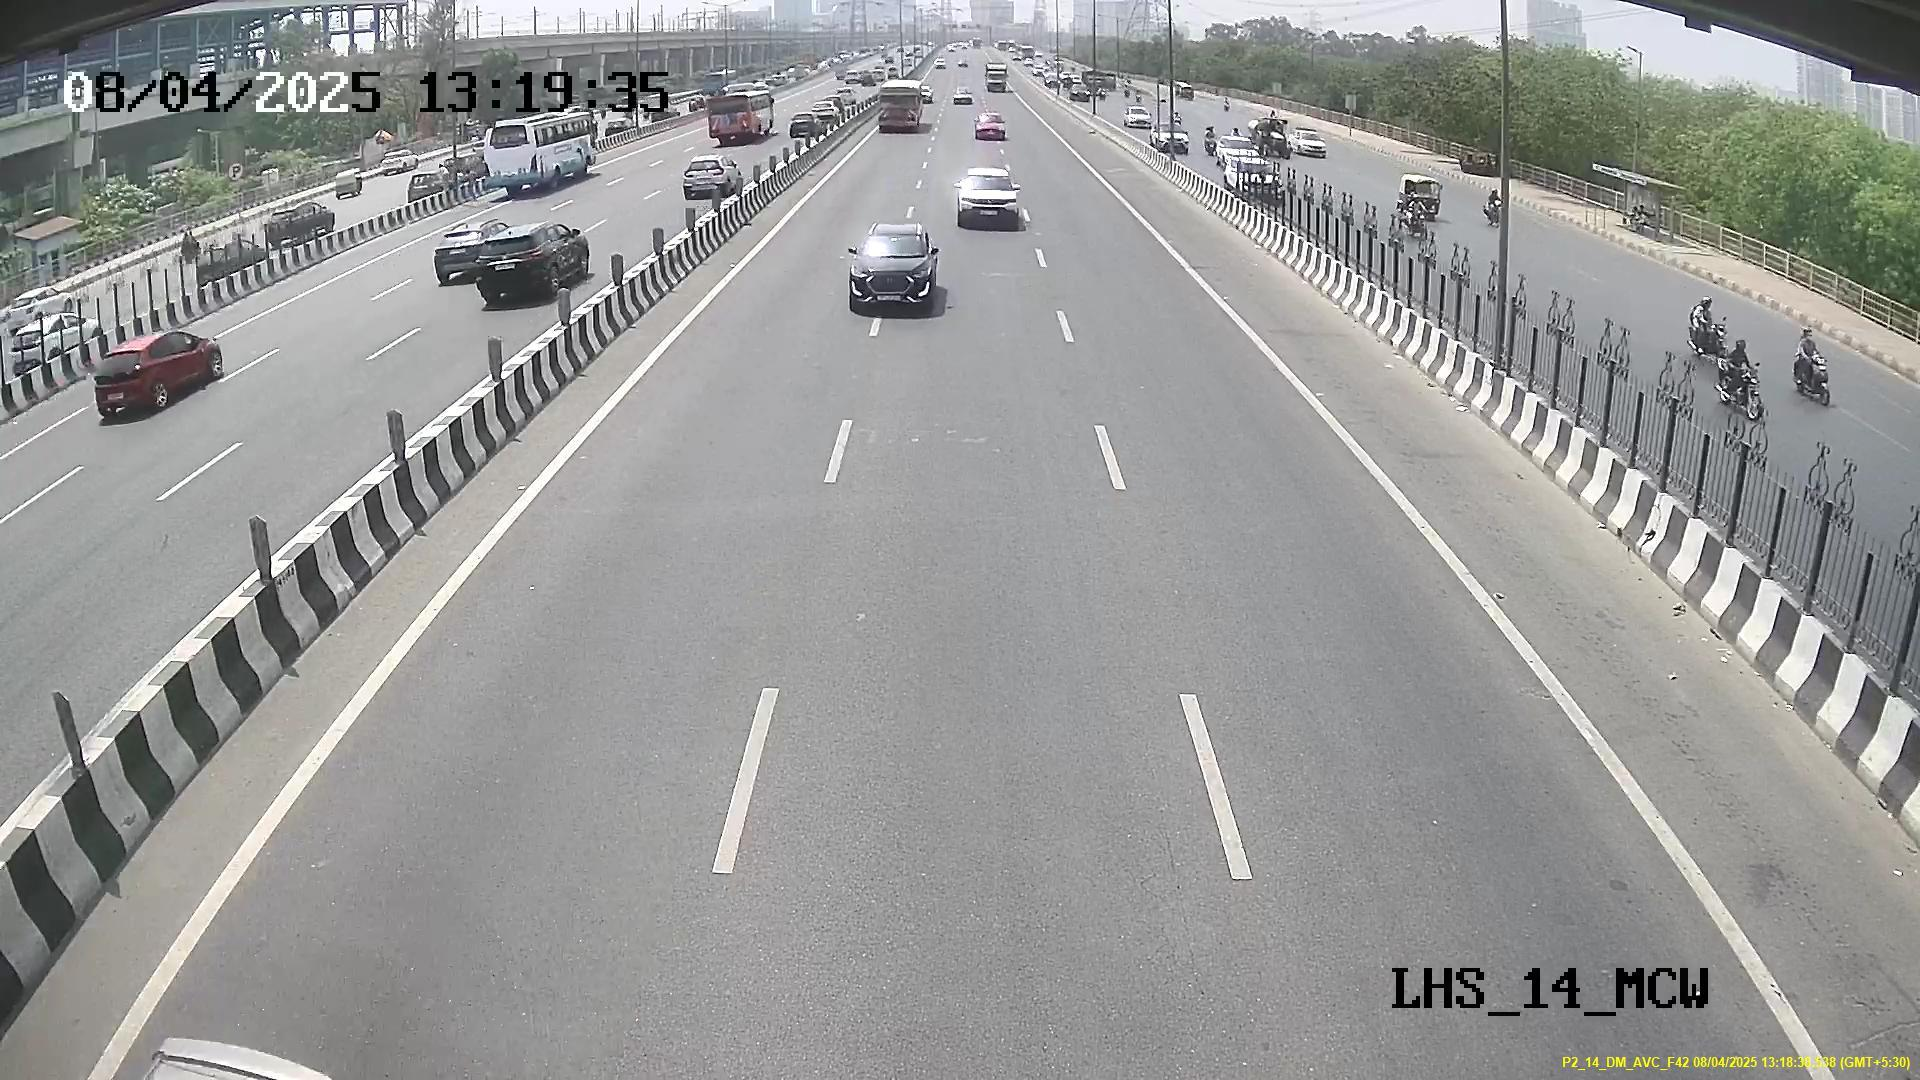car: (843, 227, 943, 323), (947, 169, 1025, 232)
